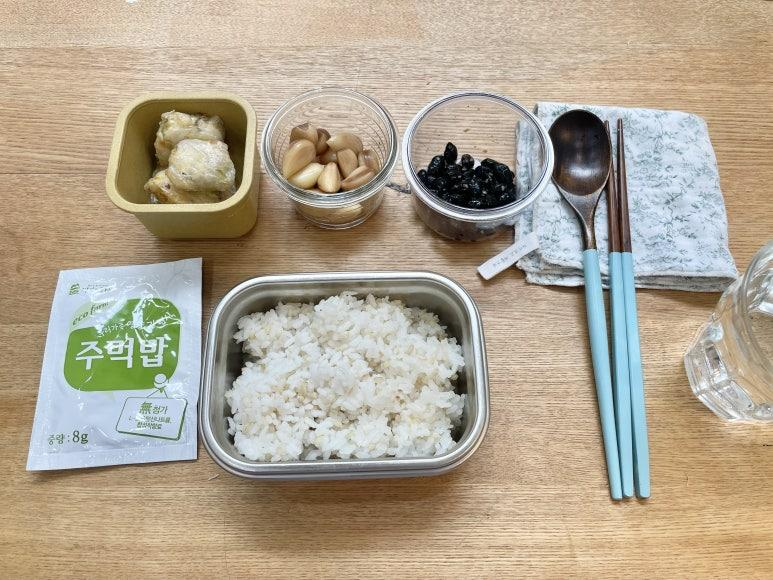Lunch Box: (199, 271, 488, 479), (402, 91, 553, 241), (106, 92, 258, 238), (262, 88, 398, 229)
